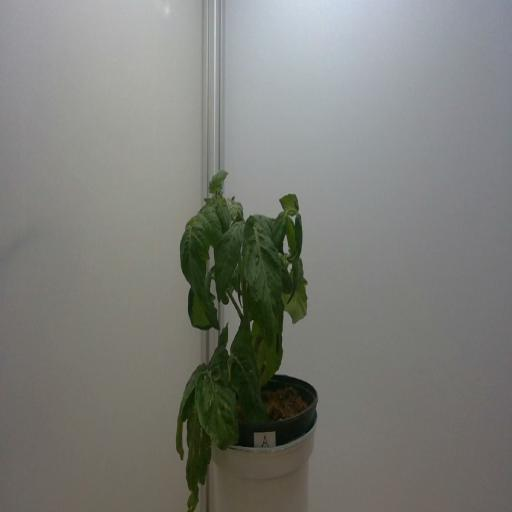Tomato-Leaves-Cupboard-: (243, 230, 286, 346), (230, 326, 269, 434), (196, 369, 240, 459), (172, 357, 206, 467), (185, 406, 213, 512), (246, 308, 280, 390), (178, 221, 210, 302), (211, 216, 242, 295), (188, 279, 220, 338), (201, 203, 223, 247), (286, 280, 308, 324), (207, 172, 234, 196), (291, 213, 305, 258), (280, 187, 298, 217), (214, 320, 231, 350), (216, 198, 230, 234)
